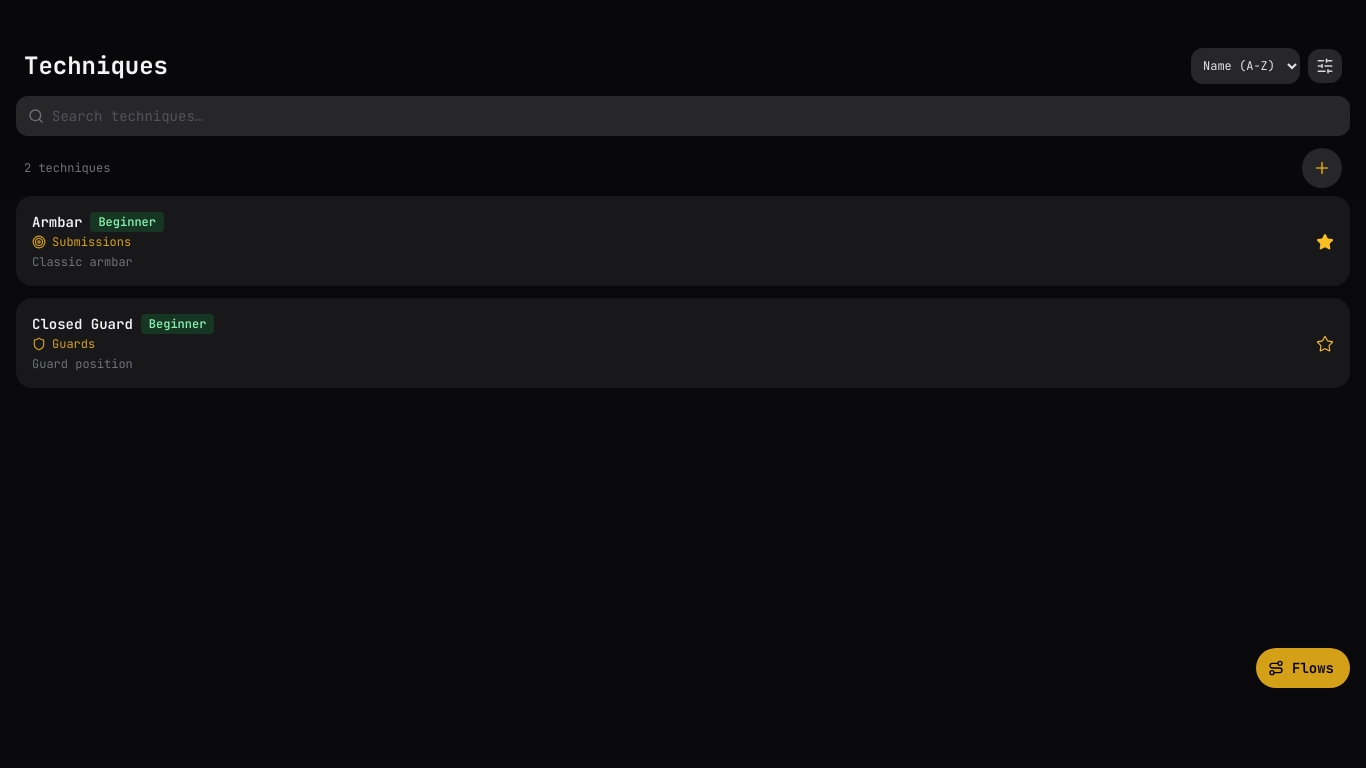
TechniquesPage — search and filter › shows category filter chips when filters are opened
Click the button named "Filter" at x=1325, y=66, box [1308, 49, 1342, 83]
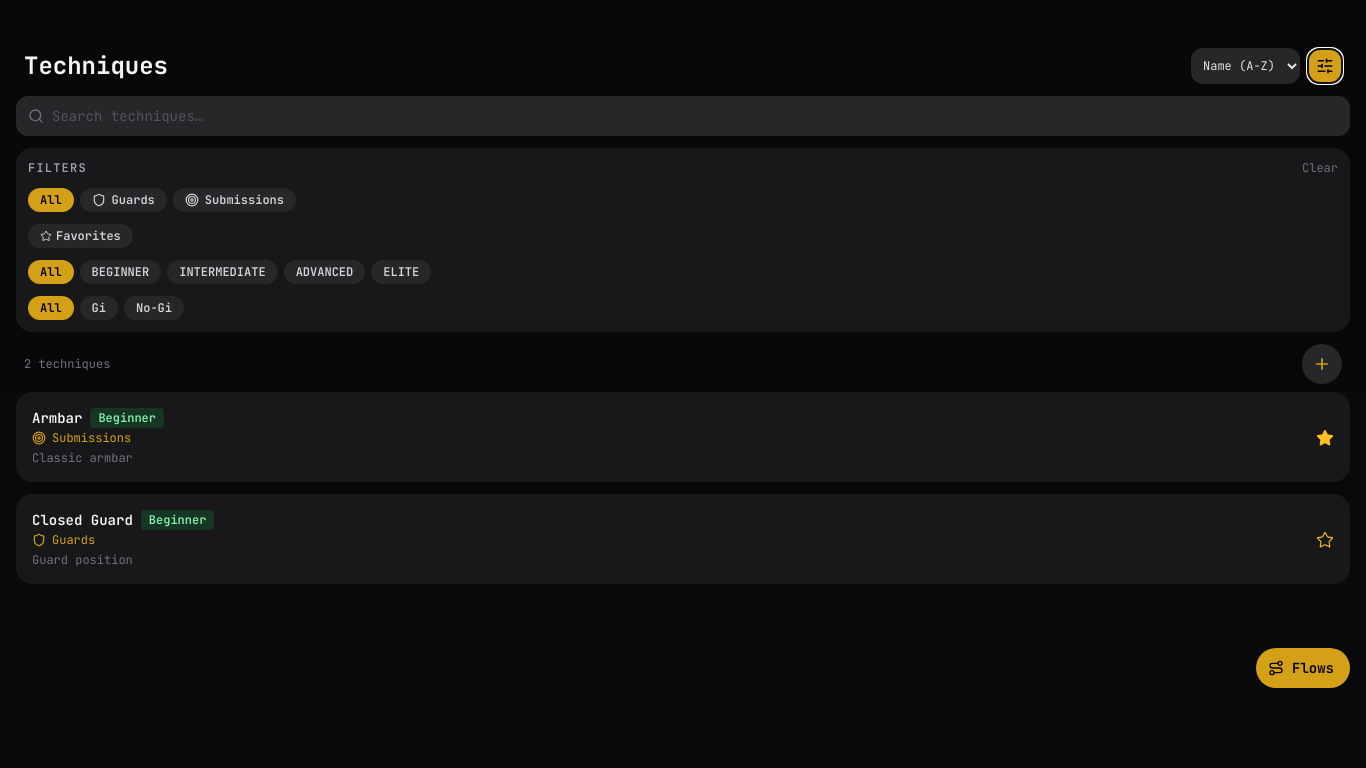
Expected: the 1st button "All" is shown, [28, 188, 74, 212]
Expected: the button "Guards" is shown, [80, 188, 167, 212]
Expected: the button "Submissions" is shown, [173, 188, 296, 212]
